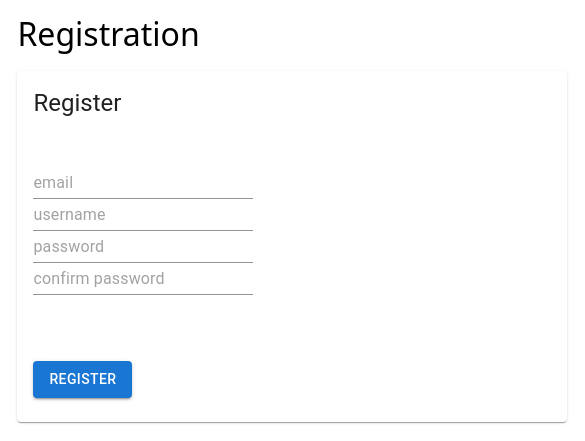
Test: displays the correct message when a field is blank
In the field with placeholder "email": (143, 183) [33, 167, 253, 199], type "foo@gmail.com"
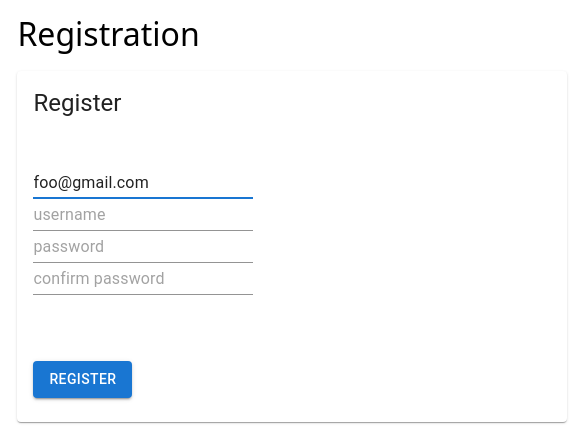
Click the button "register": (83, 379) [33, 361, 132, 398]
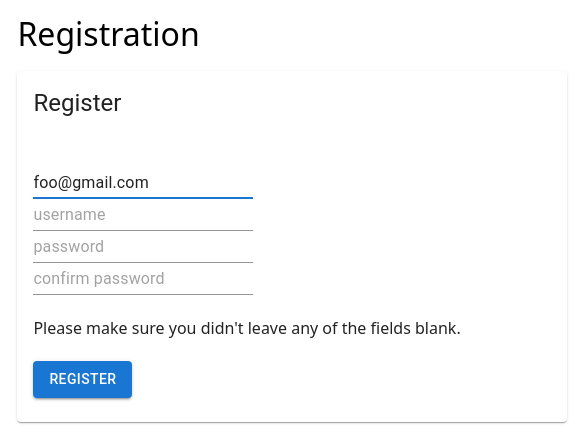
Expected: the text with test id "blank-message" reads "Please make sure you didn't leave any of the fields blank.", [33, 317, 461, 339]
